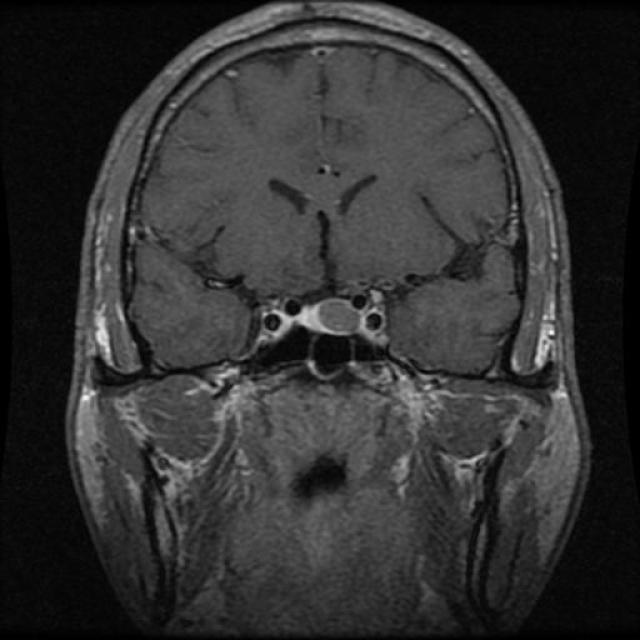pituitary: (292, 281, 384, 347)
